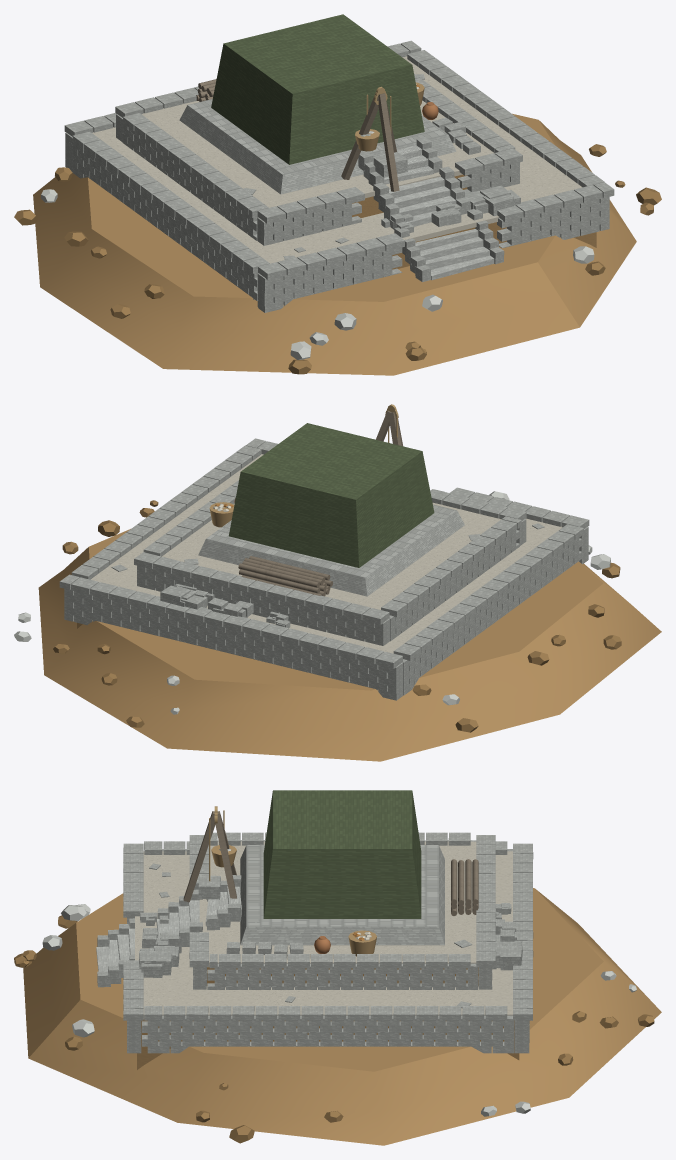
File: lin-6-construction.glb
3 views of the same model, one above another, from view 1: azimuth 30°, elevation 25°; view 2: azimuth 150°, elevation 25°; view 3: azimuth 270°, elevation 25° (orthographic). The views are drawn at different scales.
Bounding box in the file's own units: 44.34 × 15.3 × 45.09.
Materials: 20 (12 with a texture image).
